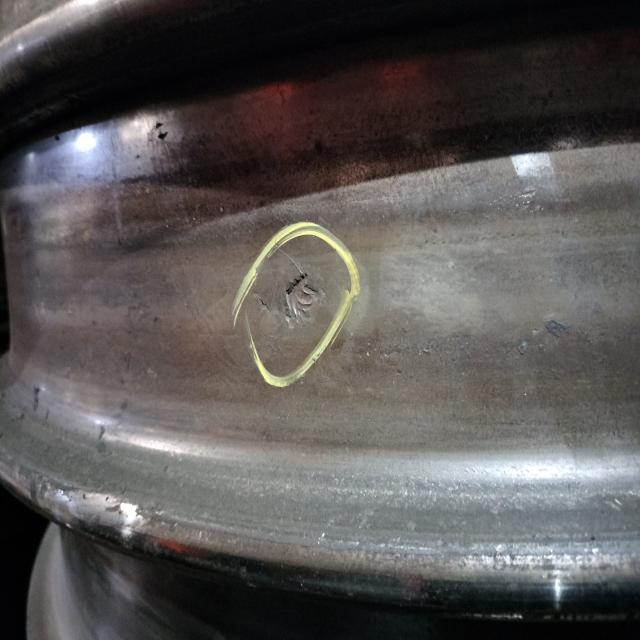Rollerpile: (255, 270, 321, 327)
